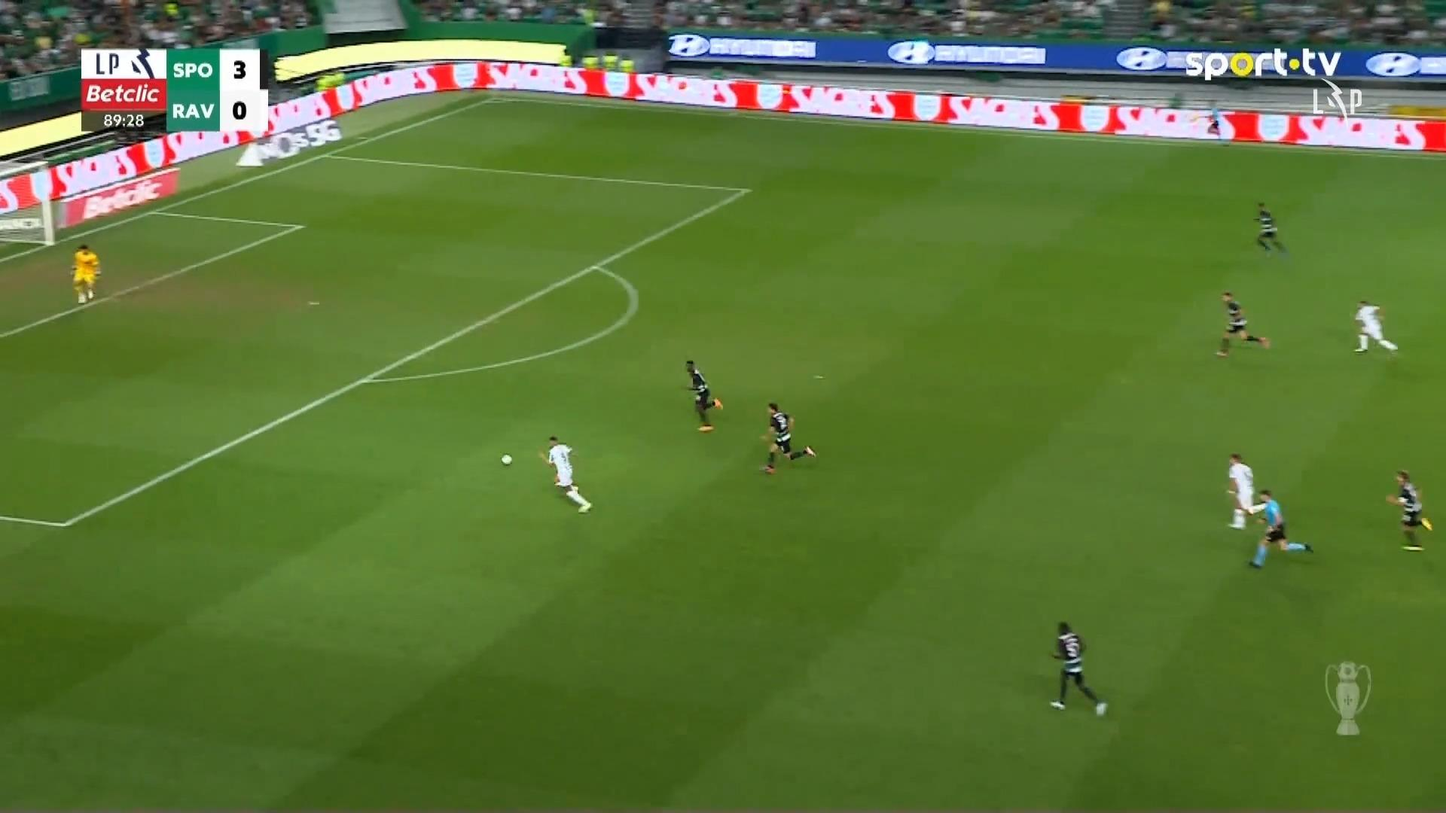ball: (1095, 702, 1107, 716), (501, 454, 511, 465)
goalkeeper: (69, 242, 101, 303)
player: (1048, 620, 1108, 717), (537, 435, 593, 513), (760, 401, 816, 473), (1385, 469, 1432, 550), (1214, 290, 1270, 357), (685, 359, 723, 432), (1353, 299, 1399, 353), (1225, 452, 1254, 529), (1252, 200, 1286, 254)
referee: (1244, 488, 1313, 568)
